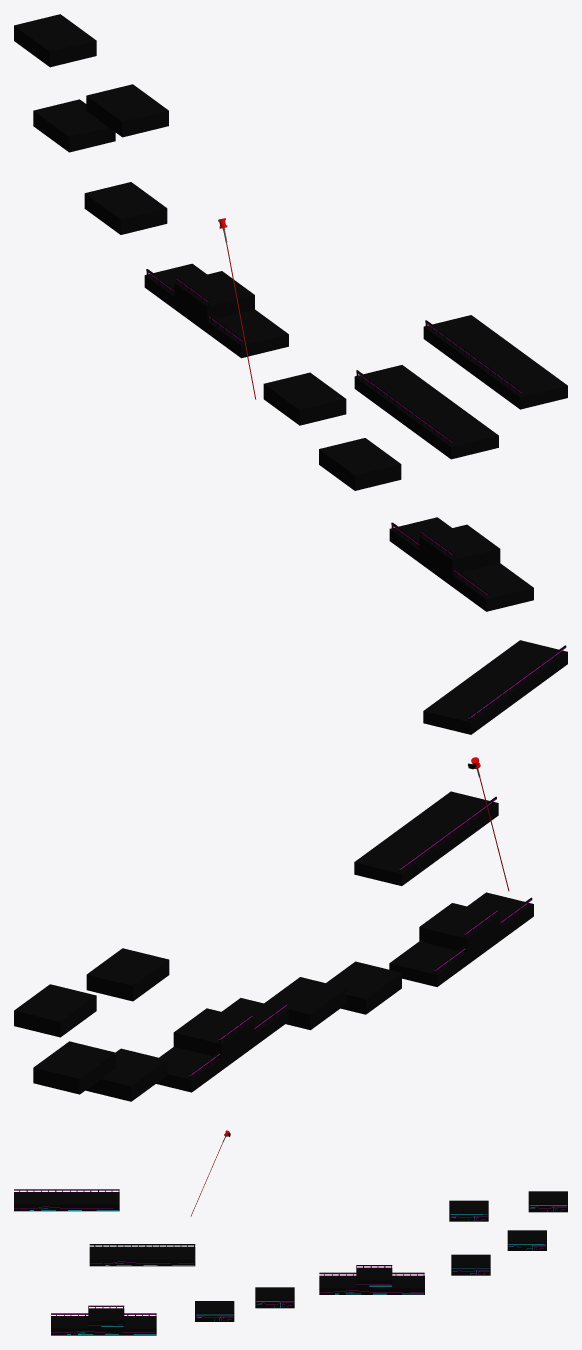
The model's file is parkur-sulo-2.fbx.
3 renders of one model, top to bottom at view 1: azimuth 30°, elevation 25°; view 2: azimuth 150°, elevation 25°; view 3: azimuth 270°, elevation 25°, orthographic. The views are drawn at different scales.
Parts seen in each view (by area): view 1: Cube.170; view 2: Cube.170; view 3: Cube.170.
Boxes of the visible parts, x1,y1,x2,y2 form: Cube.170: (14, 14, 567, 611); Cube.170: (14, 640, 567, 1101); Cube.170: (14, 1130, 567, 1335).
Bounding box in the file's own units: 645 × 1204 × 3675.
